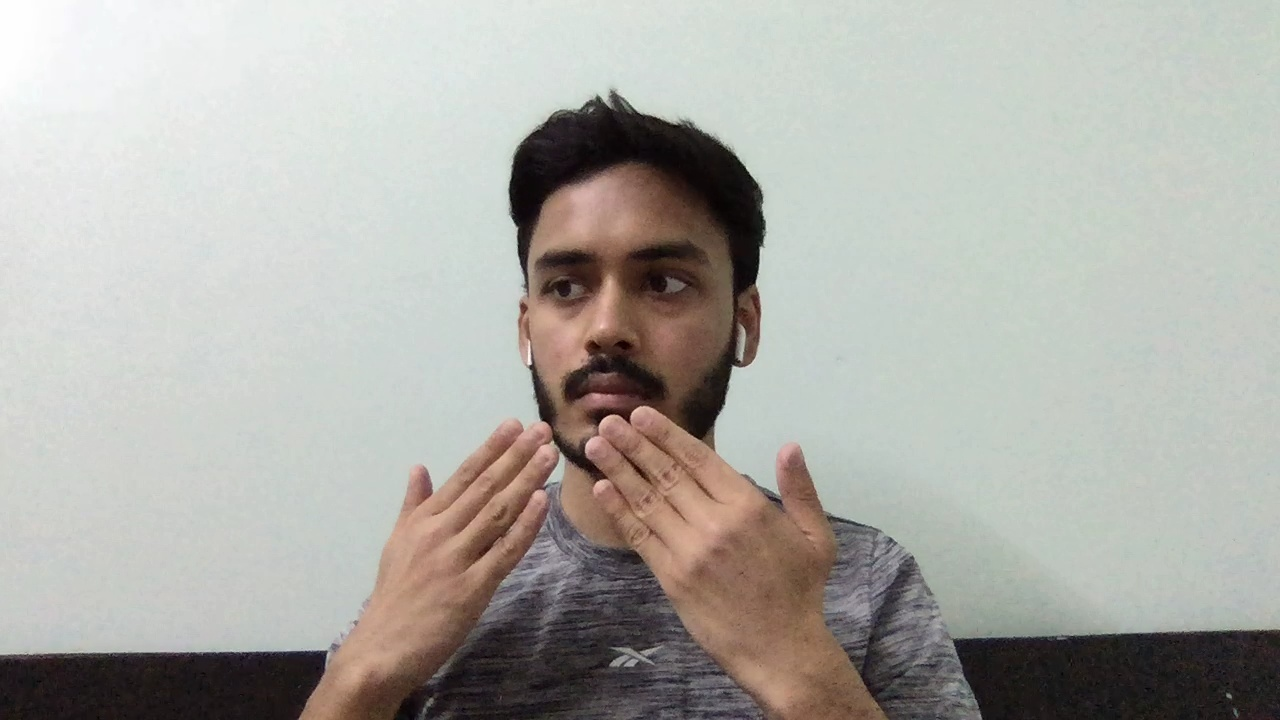Thank You: (338, 396, 866, 682)
